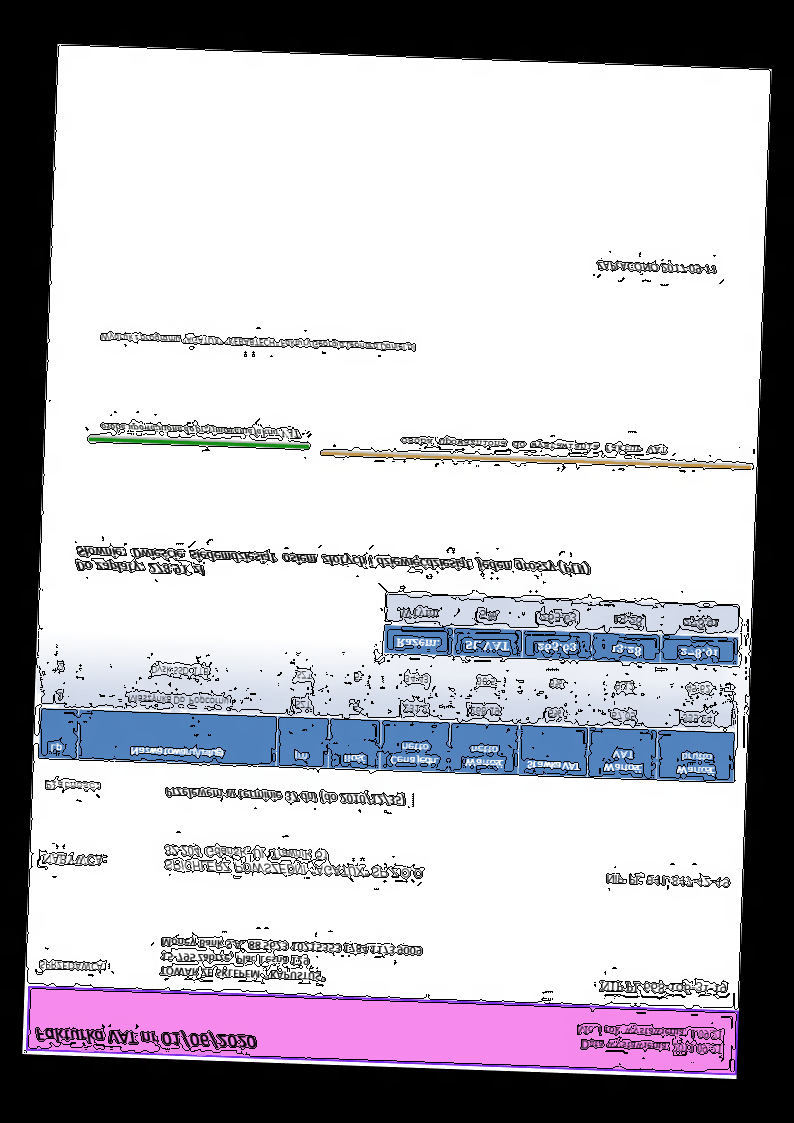Table: (37, 643, 739, 784), (383, 592, 741, 668)
TextBox: (73, 541, 593, 592), (156, 935, 422, 986), (161, 842, 429, 883), (99, 329, 417, 355), (33, 1023, 258, 1051), (399, 434, 669, 457), (163, 783, 406, 808), (572, 1021, 724, 1059), (99, 419, 302, 441), (596, 975, 728, 999), (605, 871, 732, 890), (594, 259, 718, 278), (40, 851, 109, 869), (37, 957, 107, 974), (43, 778, 101, 795)
